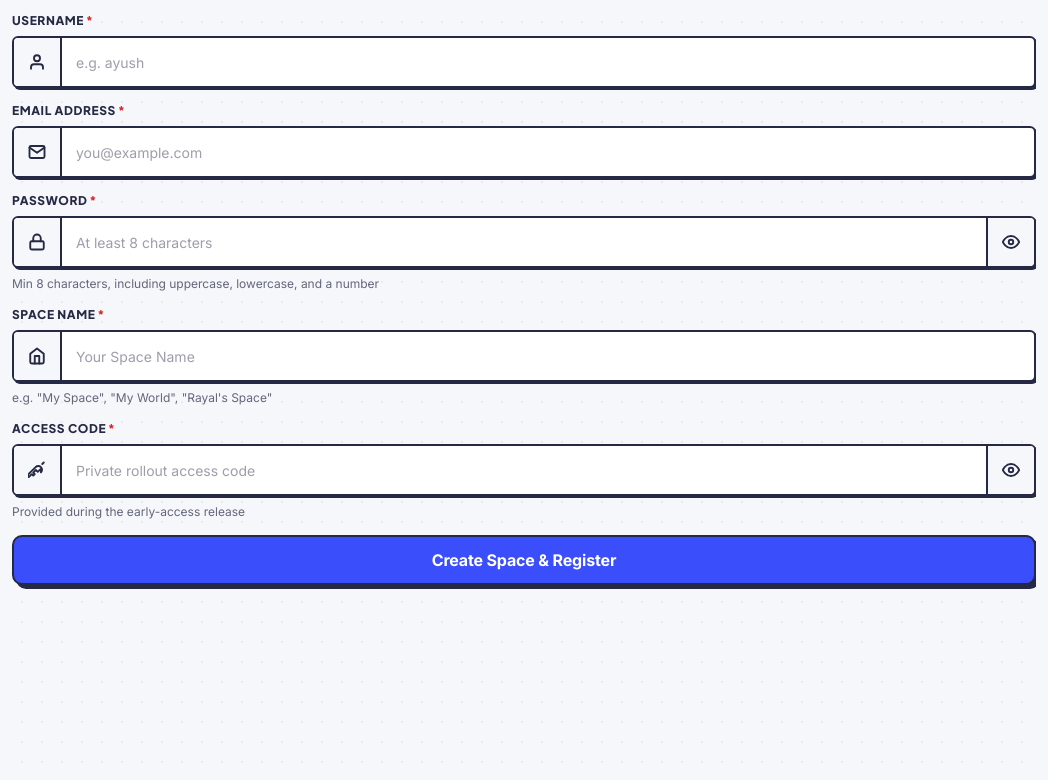
Test: SignupForm Component › validates invalid email format
In the field labelled "Email Address*": (548, 152) x1=62 y1=128 x2=1034 y2=176, type "invalid-email"
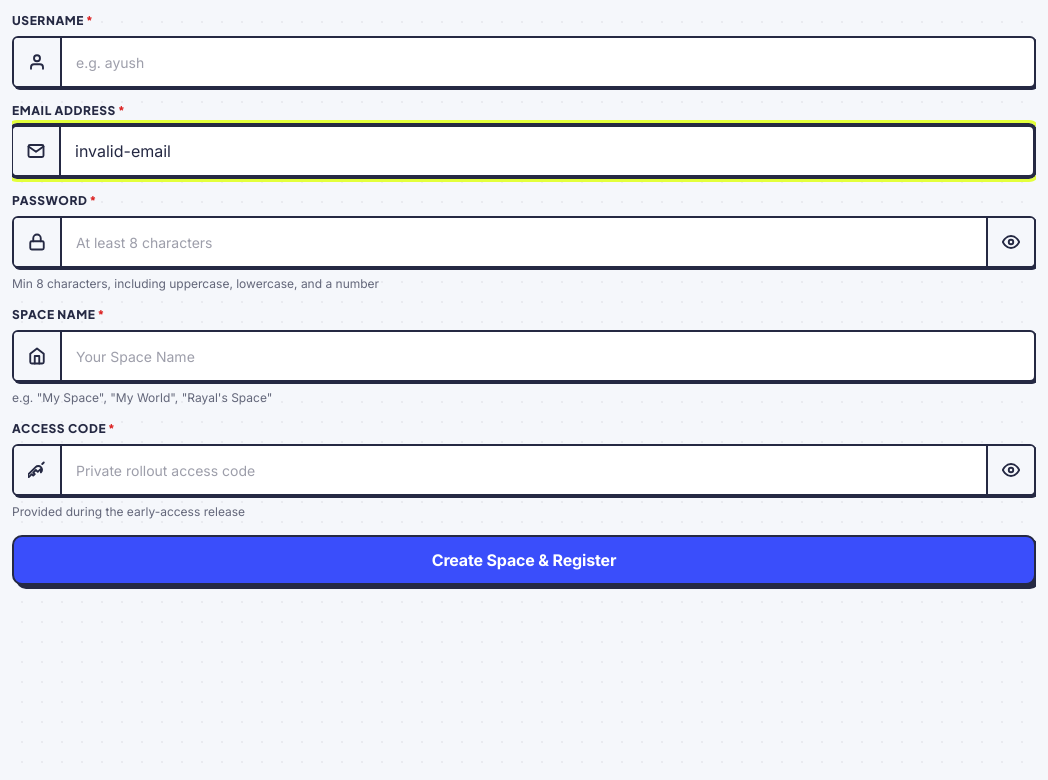
Click the button "Create Space & Register": (524, 560) x1=12 y1=535 x2=1036 y2=585
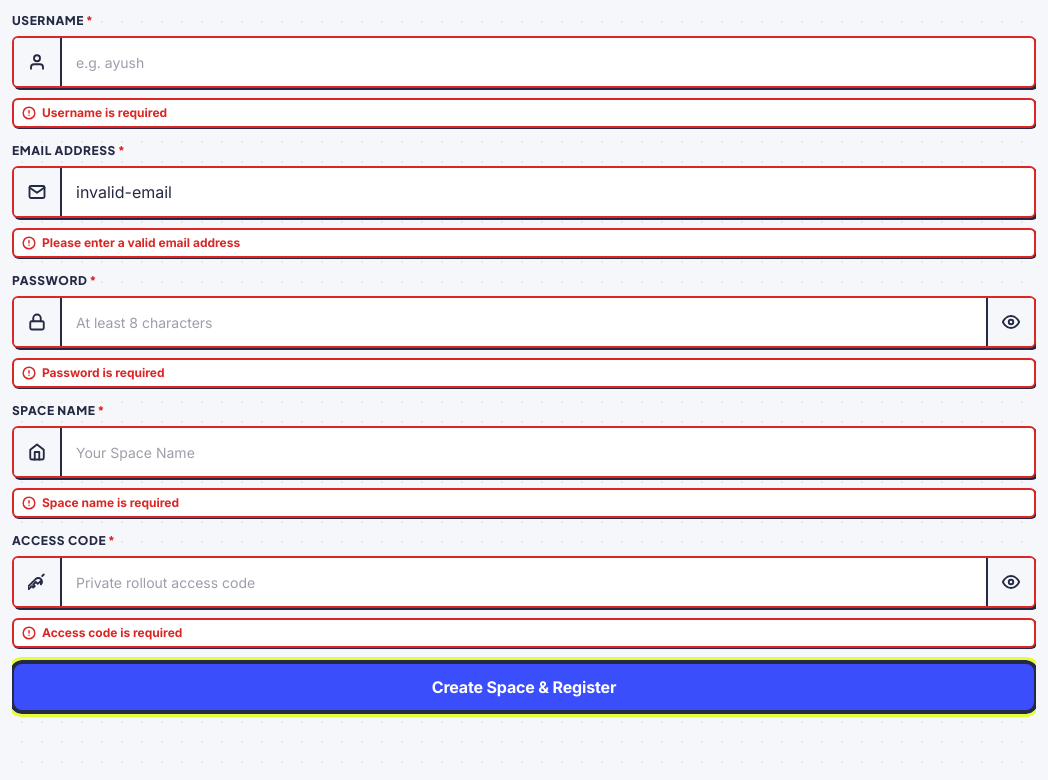
Expected: the text "Please enter a valid email address" is shown, x1=42 y1=234 x2=240 y2=252
